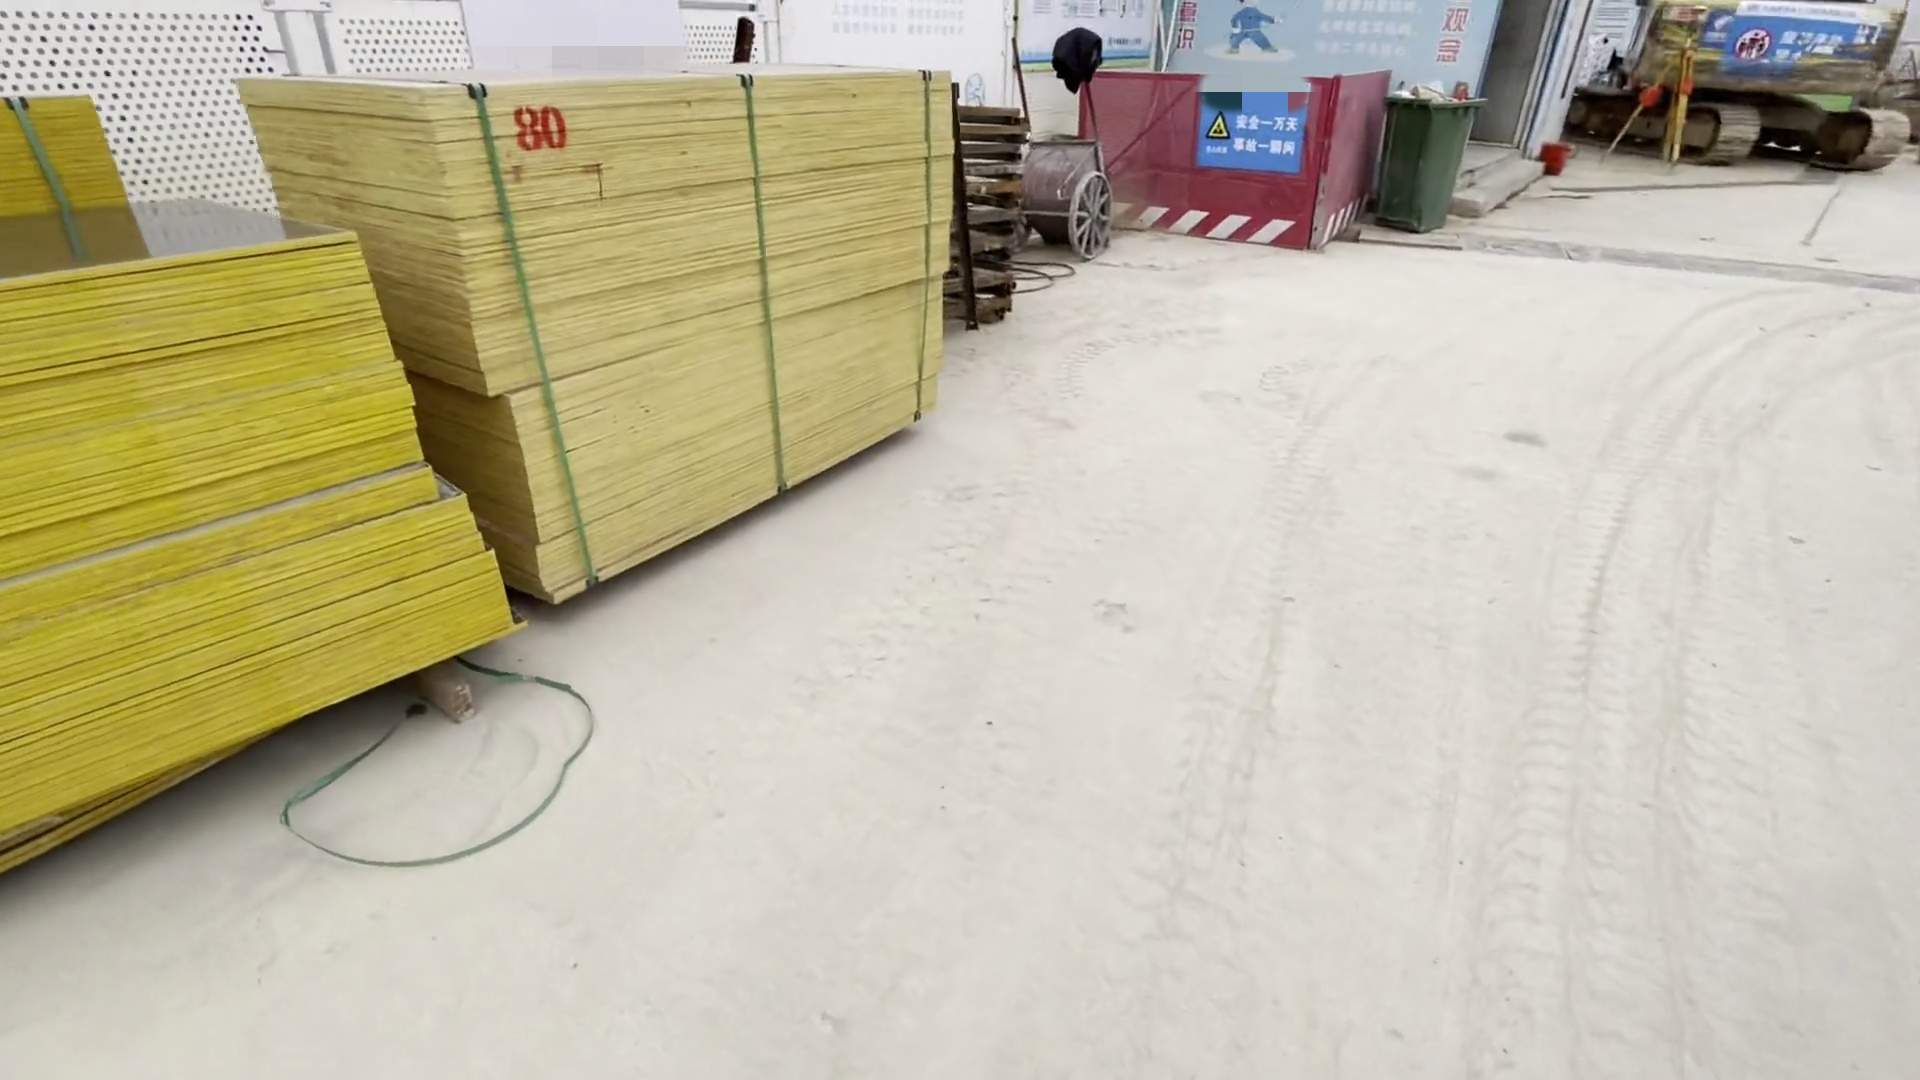board: (16, 102, 493, 884), (323, 66, 960, 609)
handcart: (996, 57, 1121, 268)
